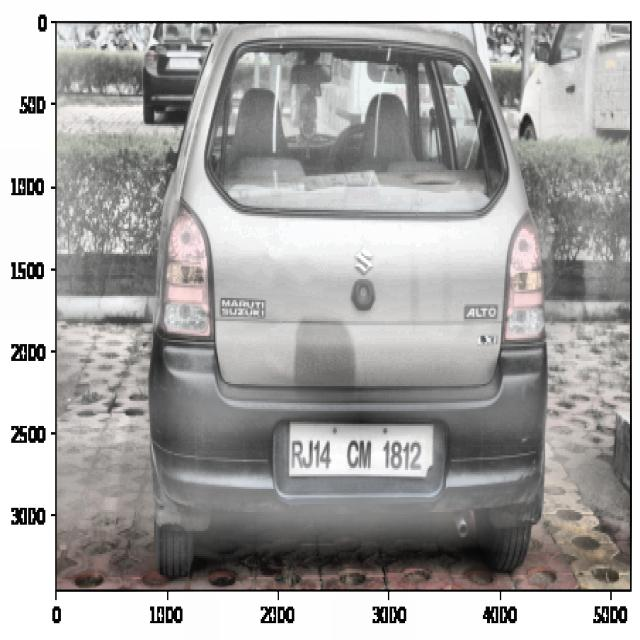license_plate: (287, 424, 425, 480)
